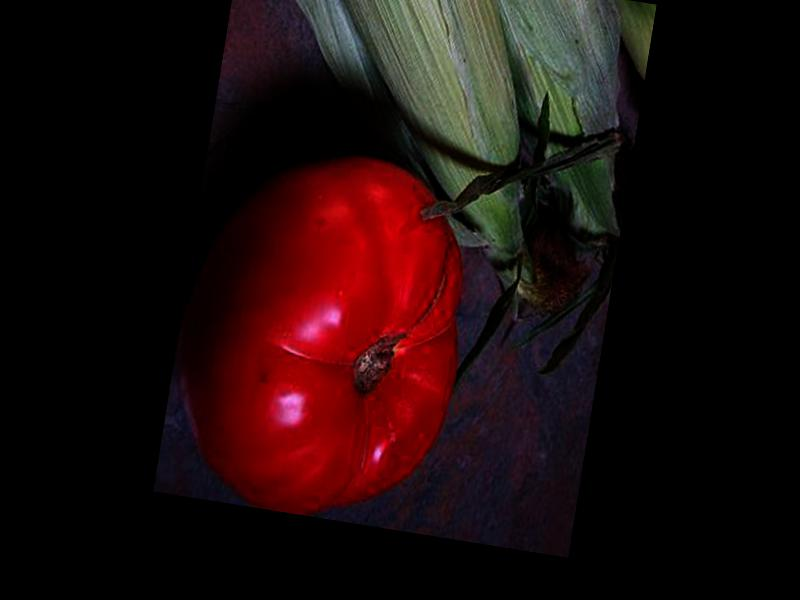Tomato: (157, 133, 487, 532)
